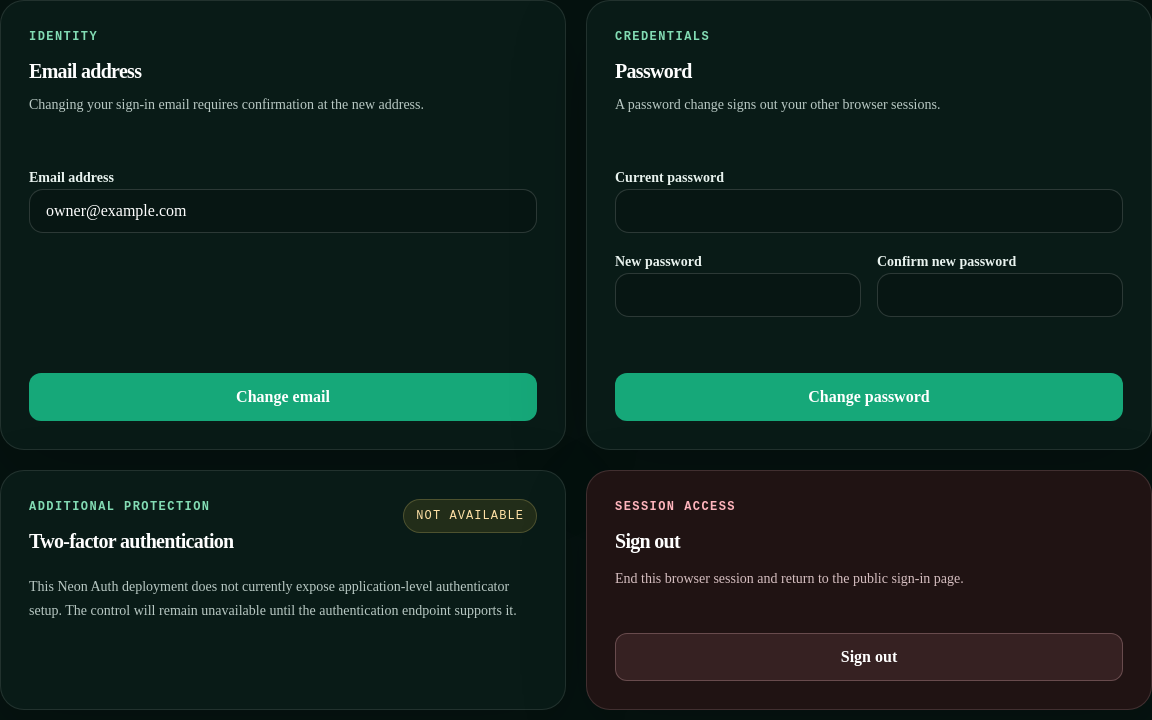
Test: AccountSecurityPanel › recovers from an unavailable authentication service
The image size is (1152, 720).
Replace the text in the field labelled "Email address" with "new@example.com". click: (283, 211)
box: [29,189,537,233]
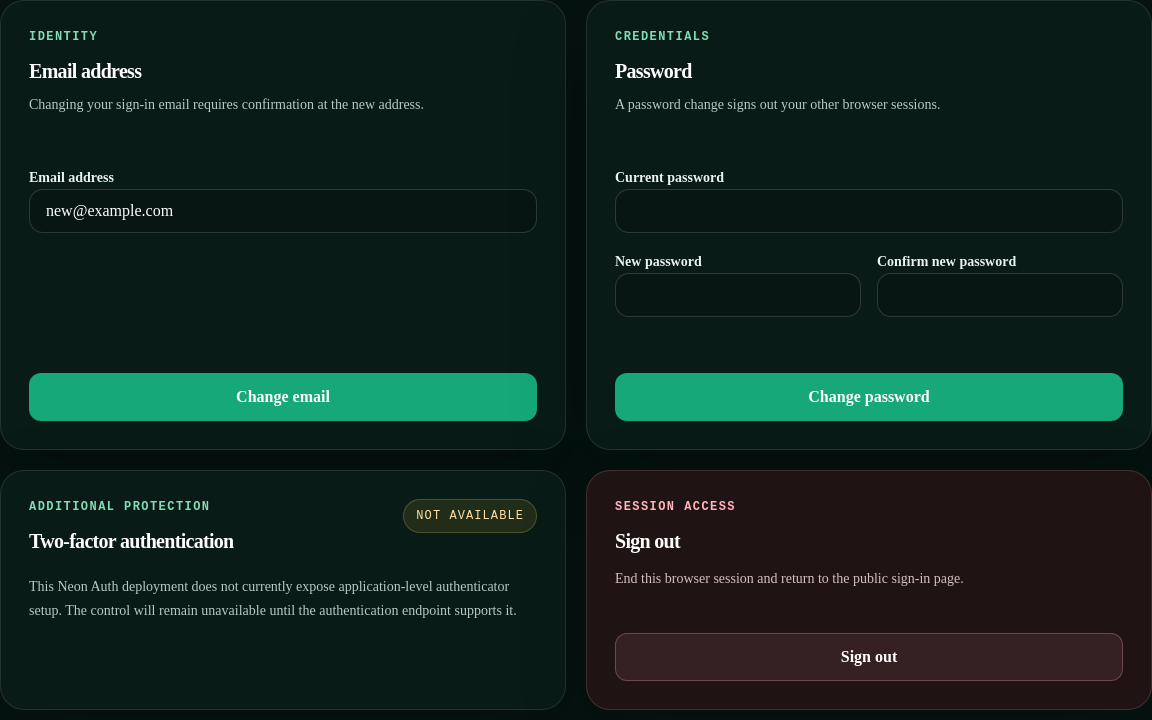
Submit the form labelled "Email address", box [29,165,537,421]
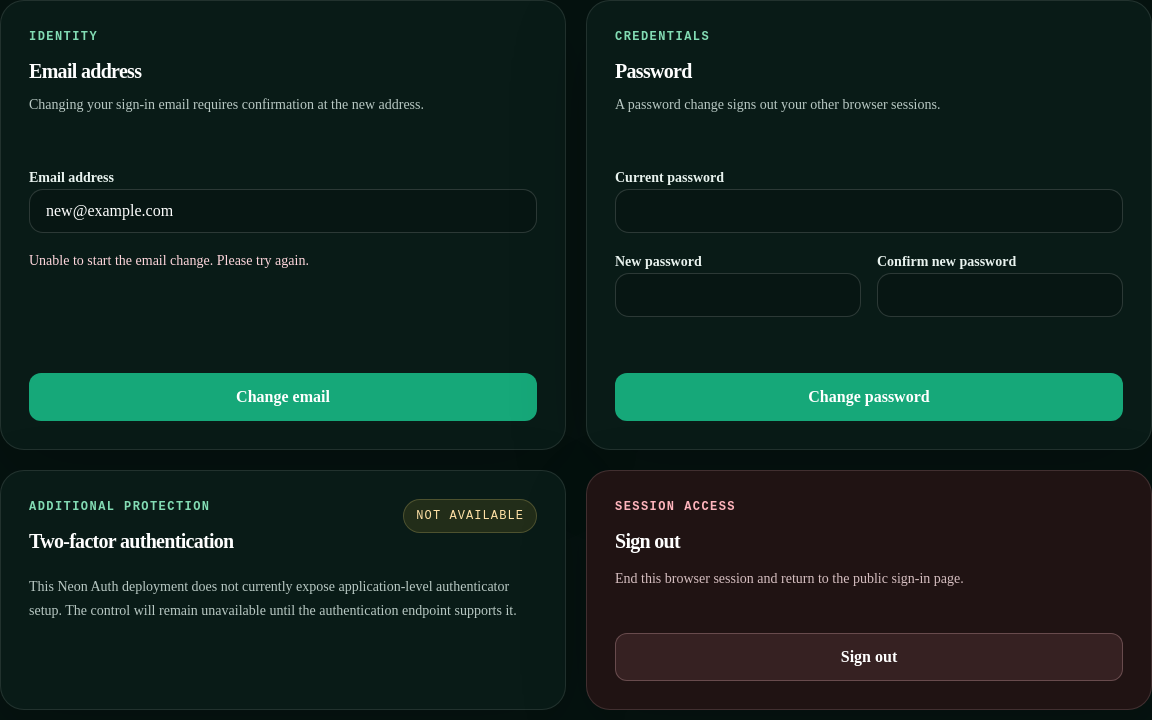
Expected: the button "Change email" is enabled, [29,373,537,421]
Now the text "Unable to start the email change. Please try again." is shown, box [29,253,309,268]
